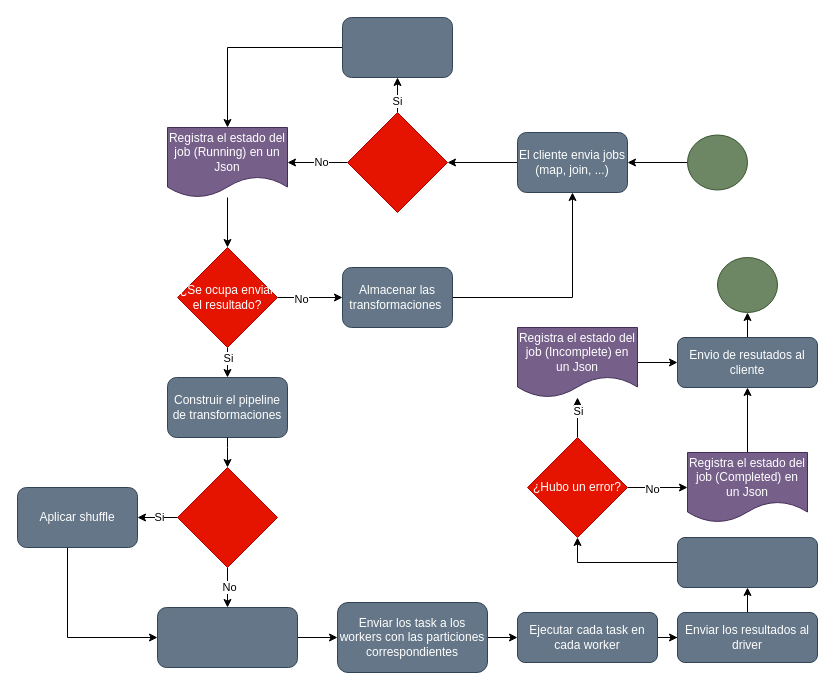
The diagram is 835 pixels wide and 690 high, and some of its shapes have lost their labels. The box of each missing label's shape, as (x1, y1, x2, y2) in pixels:
Allocate partittions: (342, 16, 452, 78)
Comienzo: (686, 134, 748, 190)
Crea los tasks Task := {PartitionID, Data, Transformations}: (156, 606, 298, 668)
Final: (716, 256, 778, 312)
Unir los resultados: (676, 536, 818, 588)
¿Es un read<file>?: (346, 112, 448, 212)
¿Hay un Join?: (176, 466, 278, 568)
